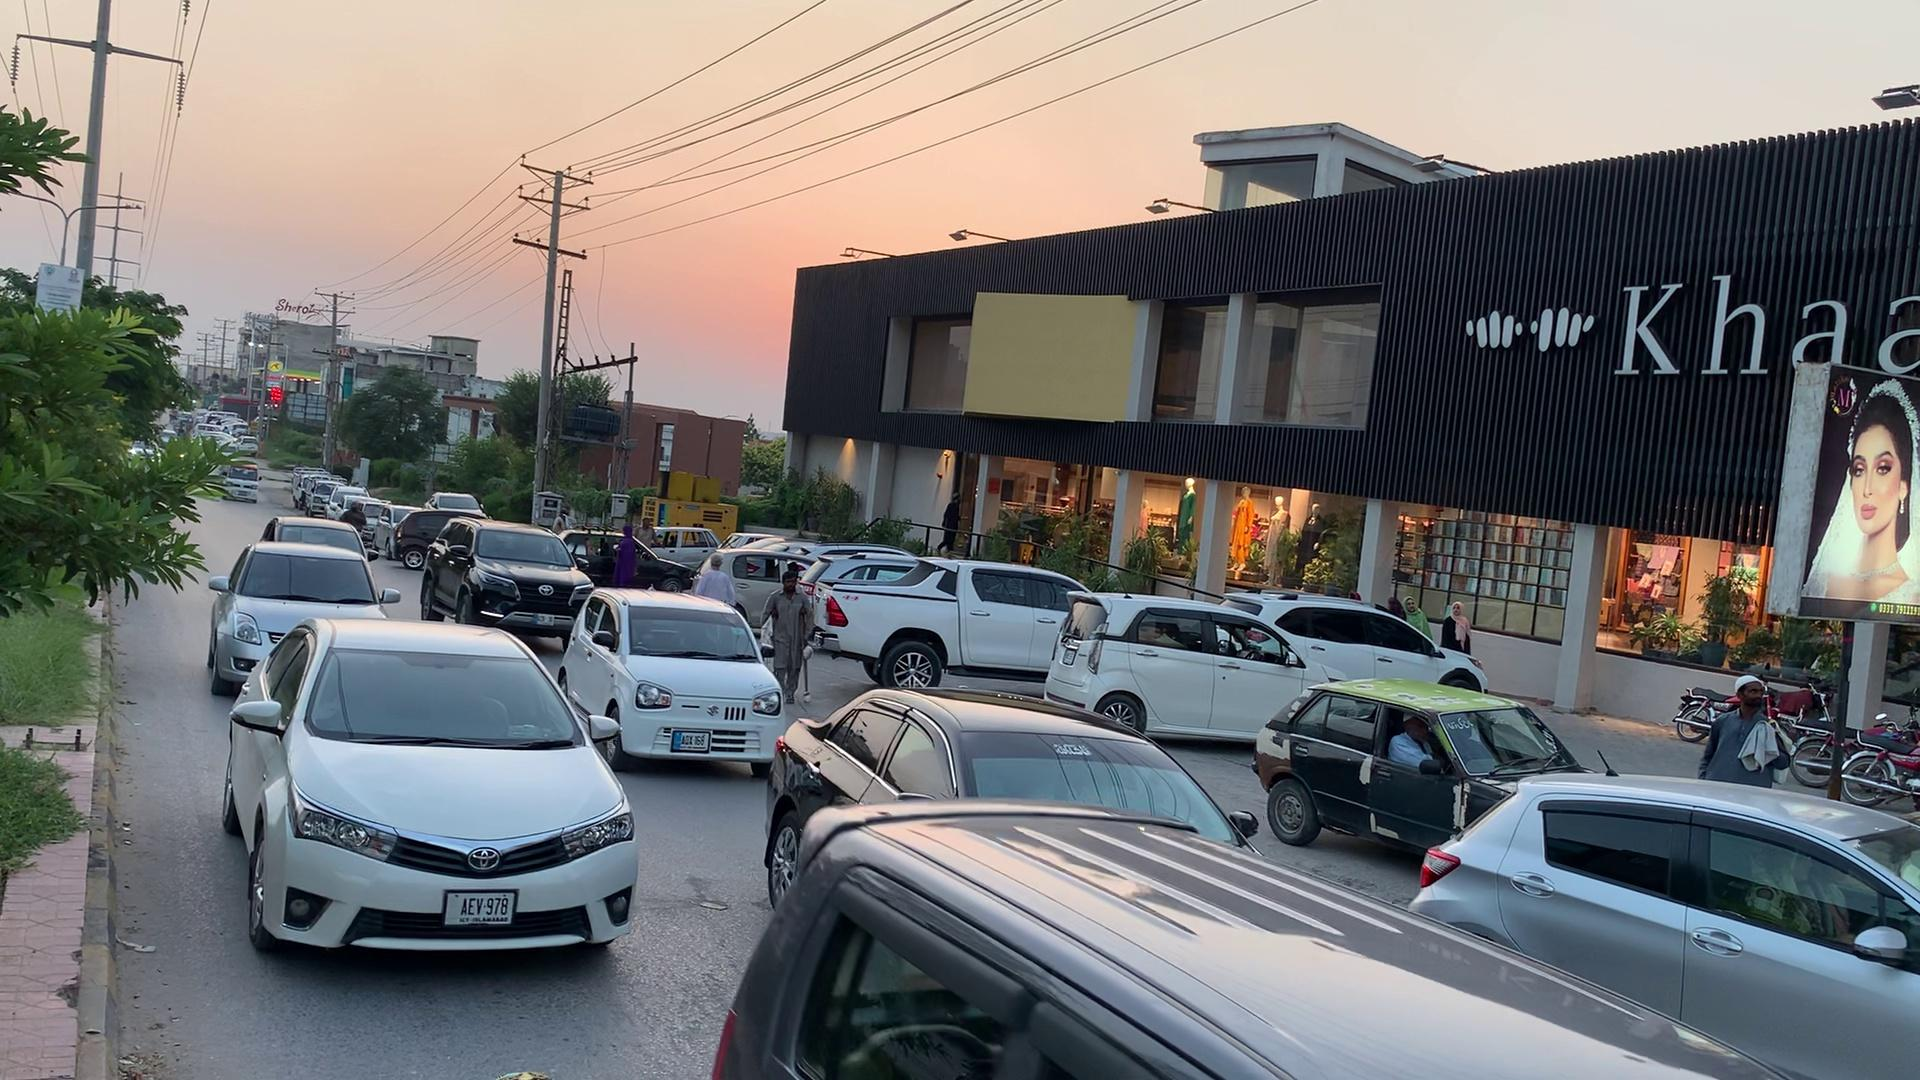windshield: (301, 644, 597, 750)
